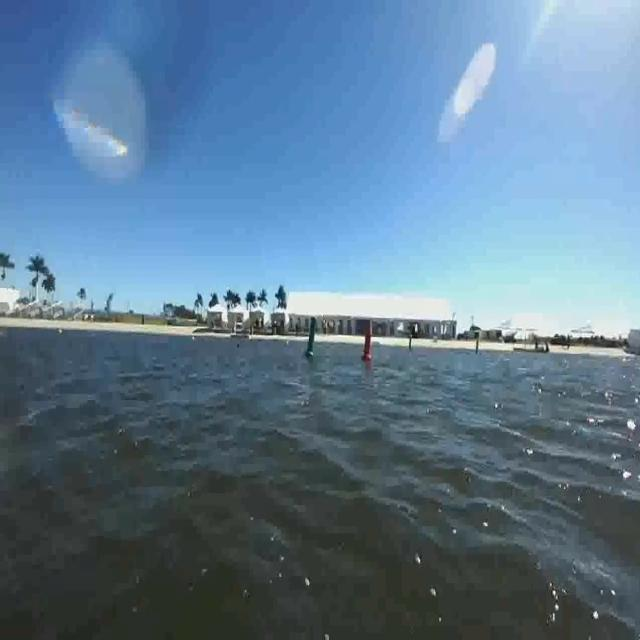green-column-buoy: (306, 317, 319, 358)
red-column-buoy: (361, 326, 374, 362)
